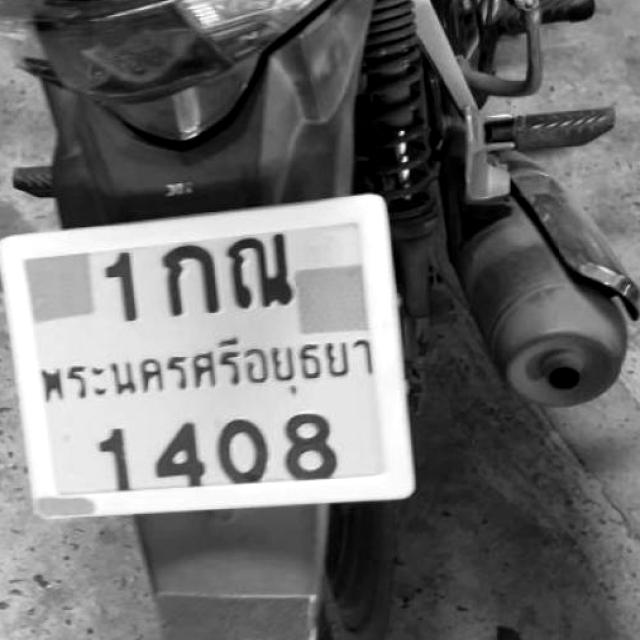letters: (150, 240, 220, 314), (223, 238, 299, 306), (284, 409, 344, 482), (154, 416, 212, 490), (83, 414, 137, 492), (101, 242, 145, 328), (220, 414, 274, 484)
license-plate: (9, 208, 399, 515)
province: (41, 339, 373, 401)
